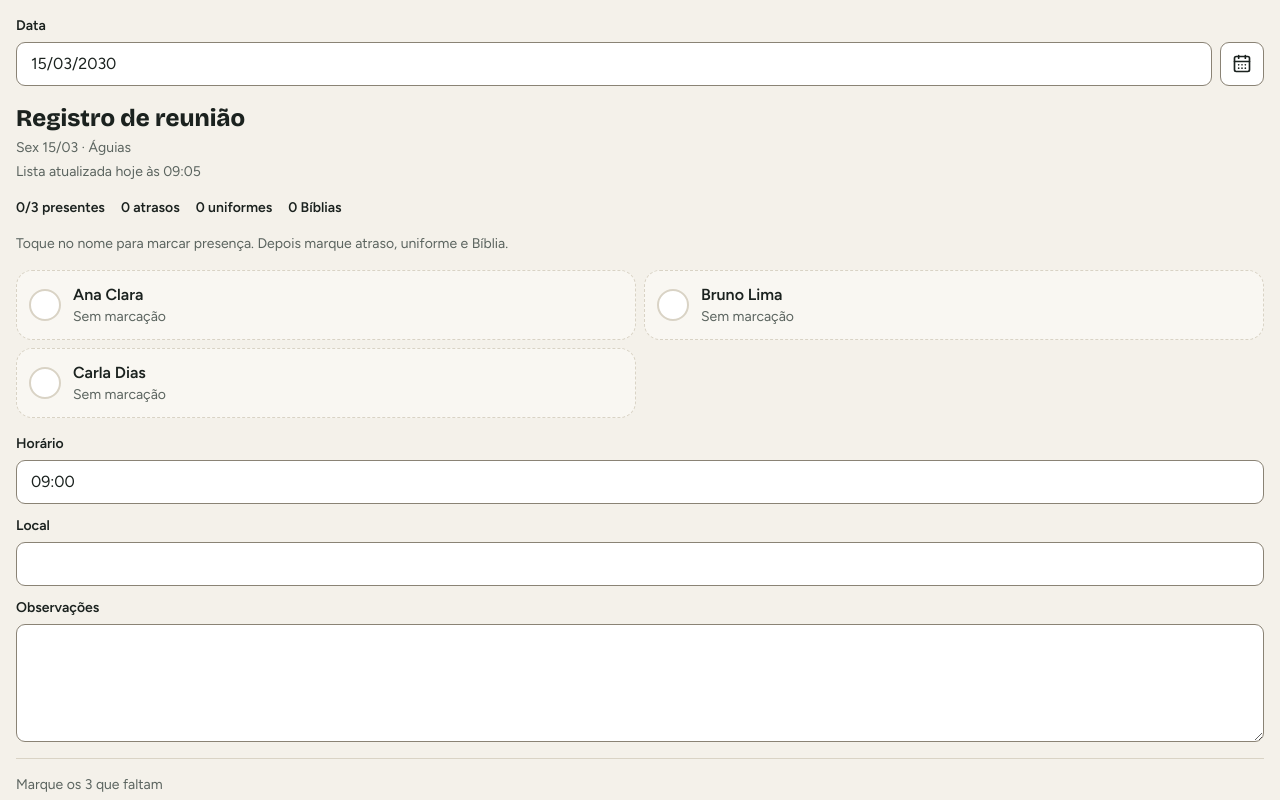
Scenario: Chamada nova › mostra chips só para o presente, calcula pontos provisórios e o resumo
The width and height of the screenshot is (1280, 800).
Expected: the text "Ana Clara" is shown, [73, 285, 143, 304]
Click the button "✓ Ana Clara Sem marcação". click: (45, 305)
box: [29, 283, 623, 327]
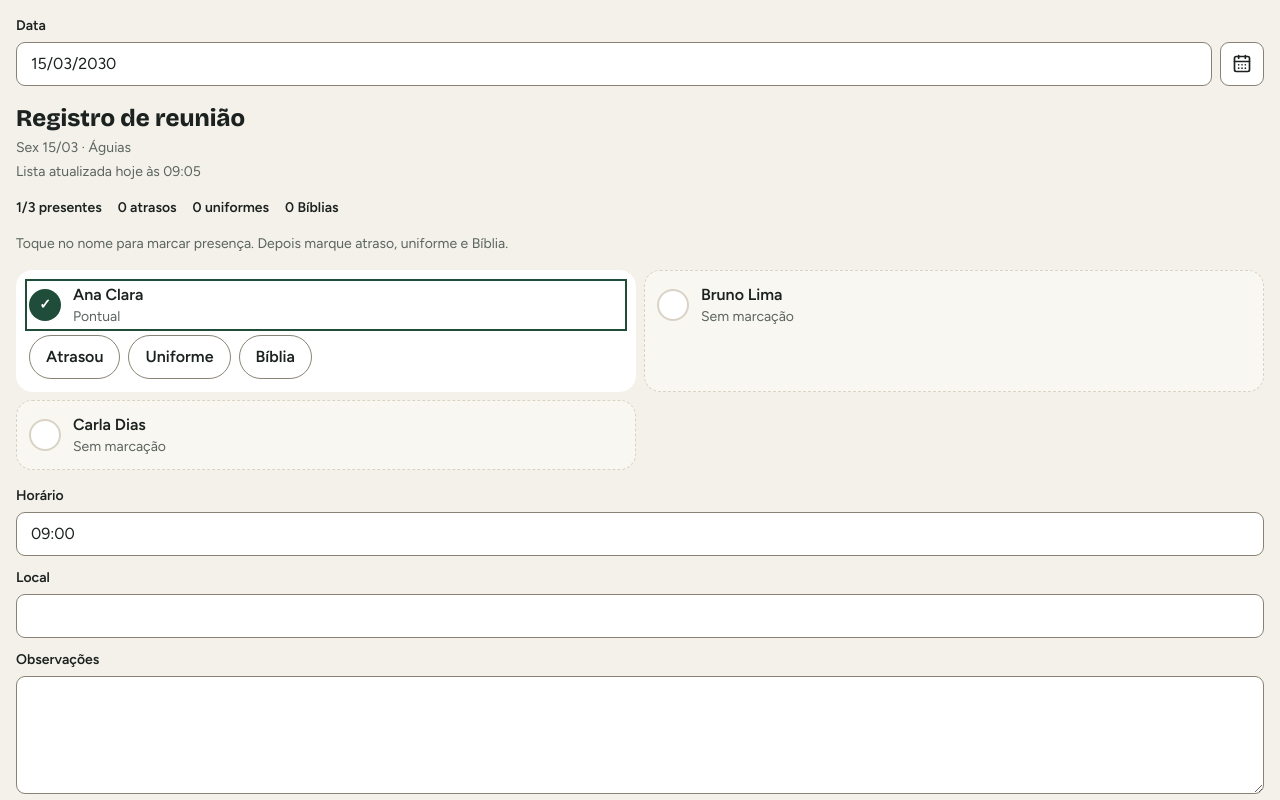
Click the button "Uniforme". click: (180, 357)
box: [128, 335, 231, 379]
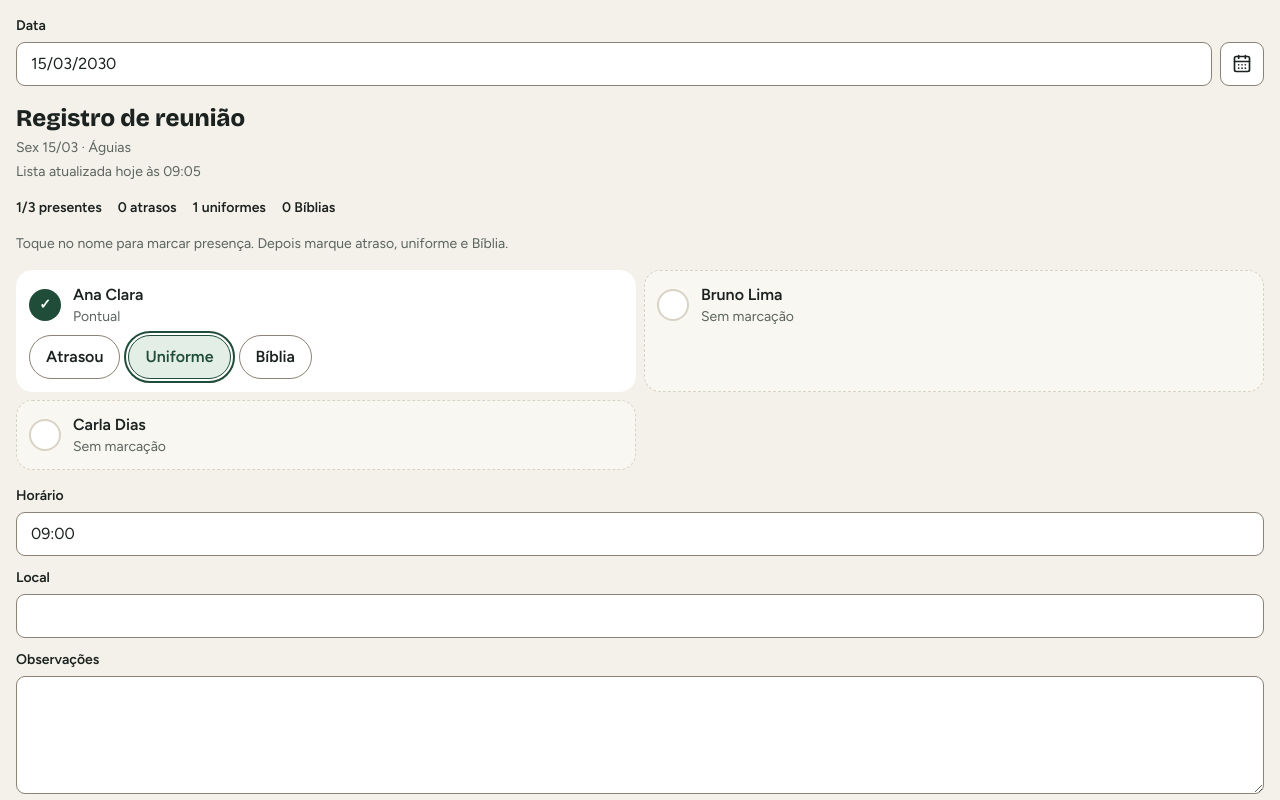
Click the button "Bíblia". click: (275, 357)
box: [238, 335, 312, 379]
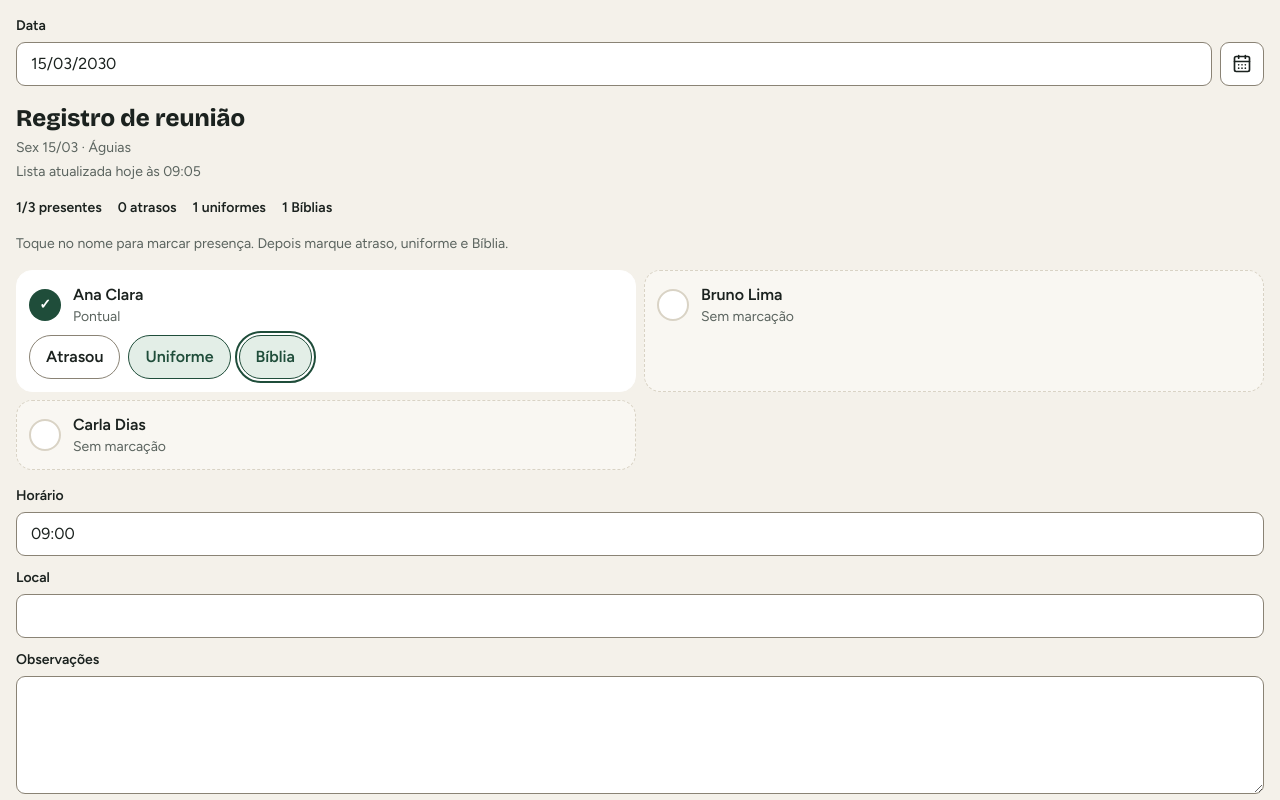
Click the button "Atrasou". click: (75, 357)
box: [29, 335, 120, 379]
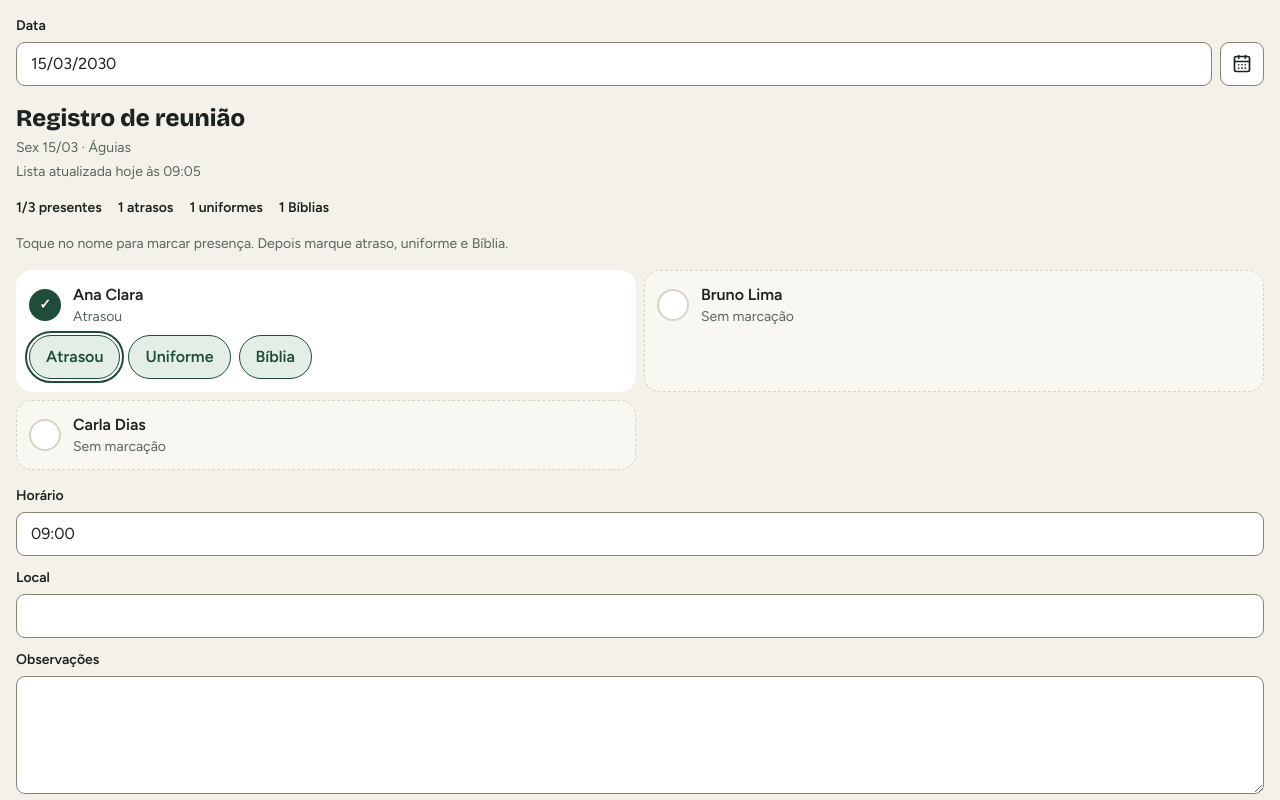
Now the text "1/3 presentes" is shown, box [16, 198, 102, 218]
Now the text "1 uniformes" is shown, box [189, 198, 263, 218]
Now the text "1 atrasos" is shown, box [118, 198, 173, 218]
